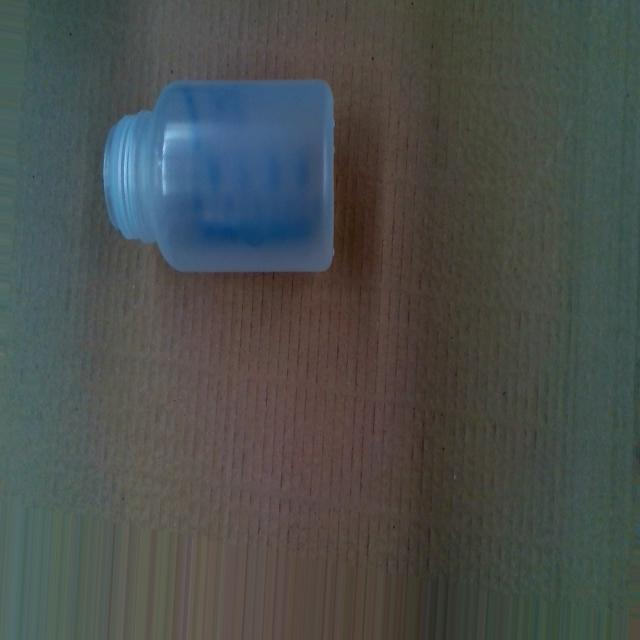bottle: (100, 81, 334, 268)
